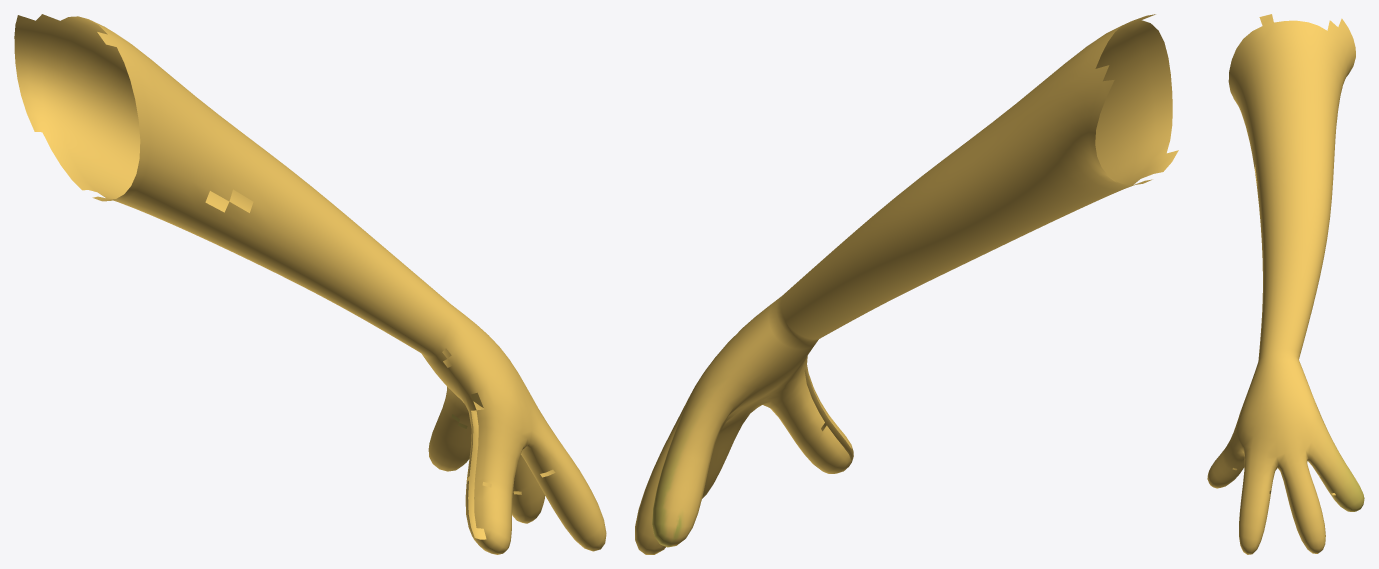
Rendered from Gummygo_LeftArm.obj.
The picture shows the model from 3 angles, left to right: view 1: azimuth 30°, elevation 25°; view 2: azimuth 150°, elevation 25°; view 3: azimuth 270°, elevation 25°; orthographic projection. The views are drawn at different scales.
Parts seen in each view (by area): view 1: Arm_L, ForeArm_L, Hand_L, Thumb_2_L, Thumb_1_L, Thumb_3_L, Shoulder_L, Index_1_L, Index_2_L, Index_3_L, Pinky_2_L, Pinky_3_L (+1 smaller); view 2: Arm_L, ForeArm_L, Hand_L, Thumb_2_L, Pinky_1_L, Pinky_3_L, Pinky_2_L, Thumb_3_L, Shoulder_L, Middle_3_L, Thumb_1_L; view 3: Arm_L, ForeArm_L, Hand_L, Pinky_1_L, Index_1_L, Middle_1_L, Middle_3_L, Index_3_L, Middle_2_L, Index_2_L, Shoulder_L, Pinky_2_L (+4 smaller).
Part boxes in pixels (x1=…): Arm_L: x1=28, y1=16, x2=300, y2=263; ForeArm_L: x1=234, y1=168, x2=457, y2=352; Hand_L: x1=420, y1=305, x2=543, y2=445; Thumb_2_L: x1=465, y1=425, x2=527, y2=498; Thumb_1_L: x1=452, y1=370, x2=537, y2=437; Thumb_3_L: x1=465, y1=484, x2=512, y2=554; Shoulder_L: x1=14, y1=14, x2=98, y2=132; Index_1_L: x1=521, y1=416, x2=571, y2=481; Index_2_L: x1=536, y1=459, x2=591, y2=515; Index_3_L: x1=555, y1=491, x2=606, y2=551; Pinky_2_L: x1=435, y1=393, x2=483, y2=449; Pinky_3_L: x1=428, y1=414, x2=470, y2=471; Arm_L: x1=886, y1=20, x2=1178, y2=269; ForeArm_L: x1=776, y1=180, x2=986, y2=340; Hand_L: x1=683, y1=297, x2=820, y2=423; Thumb_2_L: x1=762, y1=371, x2=834, y2=448; Pinky_1_L: x1=668, y1=394, x2=727, y2=463; Pinky_3_L: x1=652, y1=489, x2=701, y2=547; Pinky_2_L: x1=657, y1=449, x2=709, y2=500; Thumb_3_L: x1=794, y1=415, x2=853, y2=473; Shoulder_L: x1=1079, y1=32, x2=1115, y2=181; Middle_3_L: x1=635, y1=490, x2=665, y2=554; Thumb_1_L: x1=758, y1=356, x2=808, y2=404; Arm_L: x1=1228, y1=20, x2=1351, y2=236; ForeArm_L: x1=1258, y1=203, x2=1327, y2=360; Hand_L: x1=1242, y1=353, x2=1324, y2=469; Pinky_1_L: x1=1305, y1=423, x2=1340, y2=472; Index_1_L: x1=1242, y1=447, x2=1276, y2=490; Middle_1_L: x1=1279, y1=456, x2=1313, y2=492; Middle_3_L: x1=1293, y1=512, x2=1325, y2=553; Index_3_L: x1=1239, y1=514, x2=1266, y2=554; Middle_2_L: x1=1286, y1=485, x2=1321, y2=519; Index_2_L: x1=1239, y1=486, x2=1271, y2=517; Shoulder_L: x1=1297, y1=18, x2=1355, y2=75; Pinky_2_L: x1=1316, y1=454, x2=1353, y2=493.
Bounding box in the file's own units: 1.08 × 1.26 × 0.4525.
